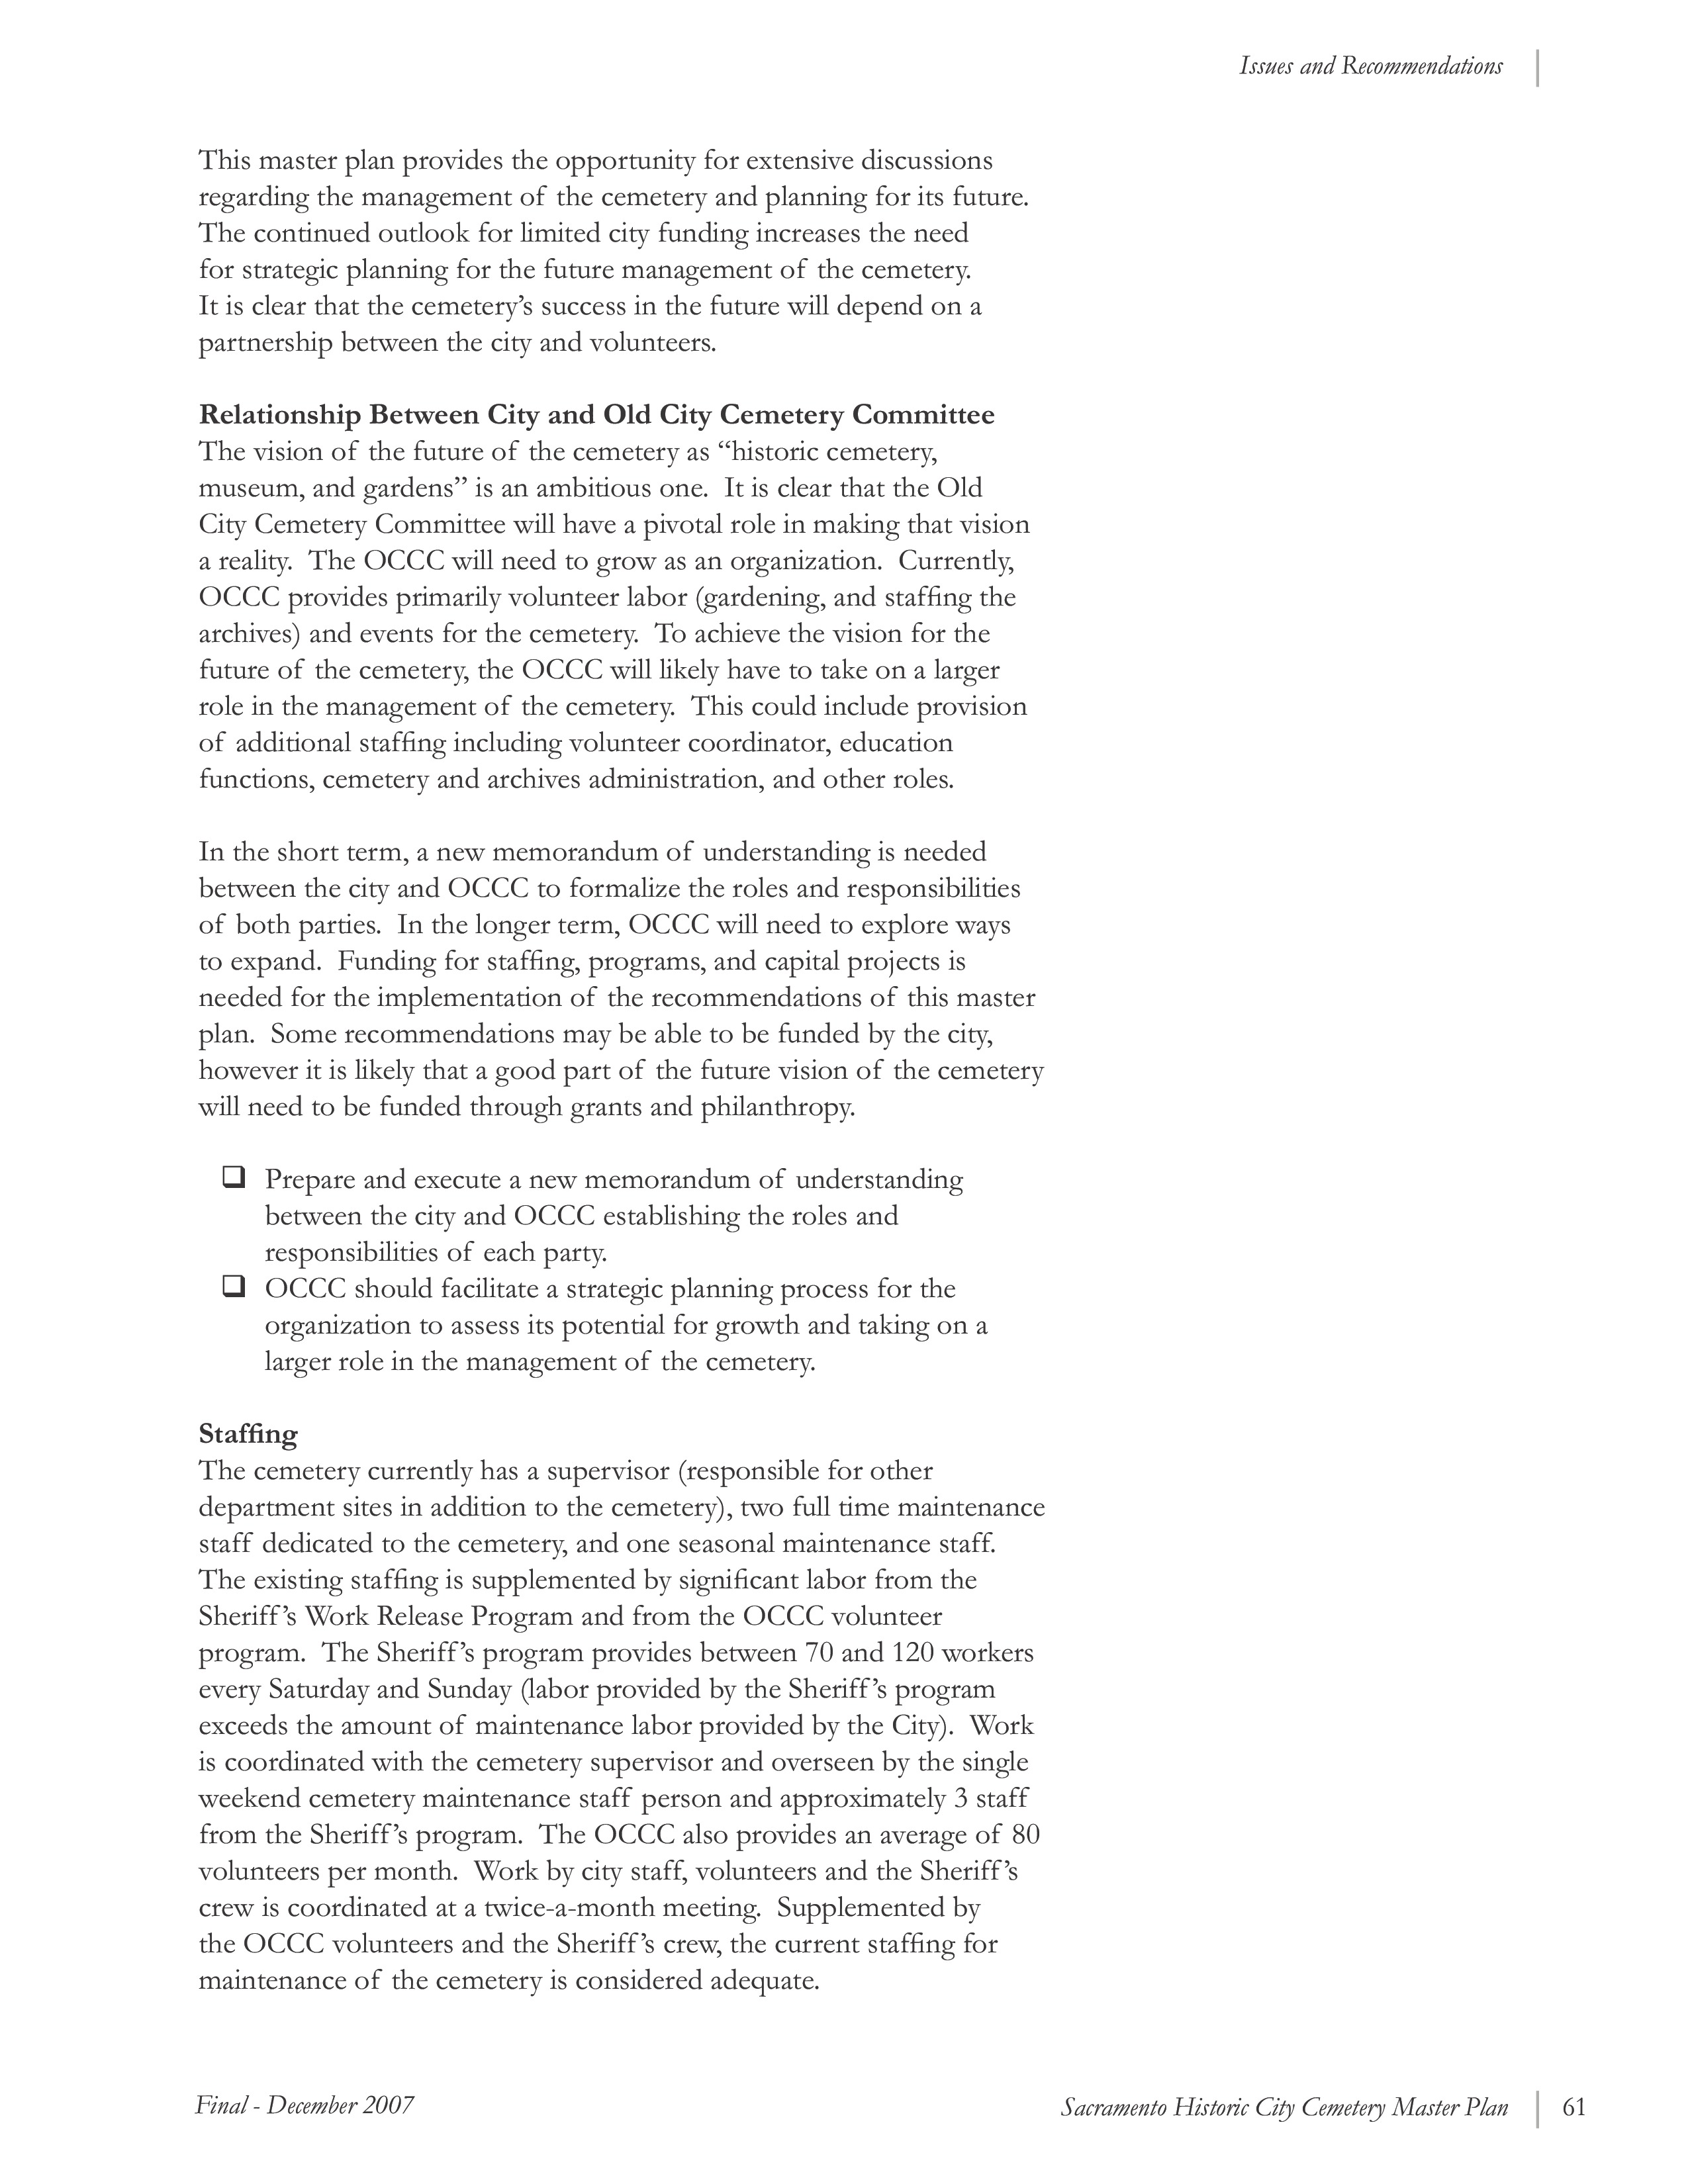list: (215, 1143, 998, 1395)
section: (183, 383, 1028, 443), (183, 1415, 310, 1454)
text: (188, 1441, 1044, 1998), (188, 456, 1044, 803), (191, 826, 1044, 1124), (191, 136, 1041, 367)
